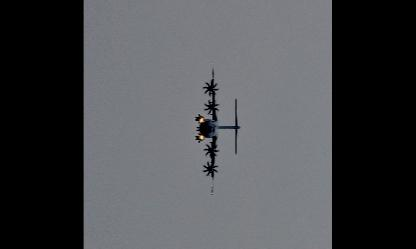A400M: (196, 62, 241, 195)
